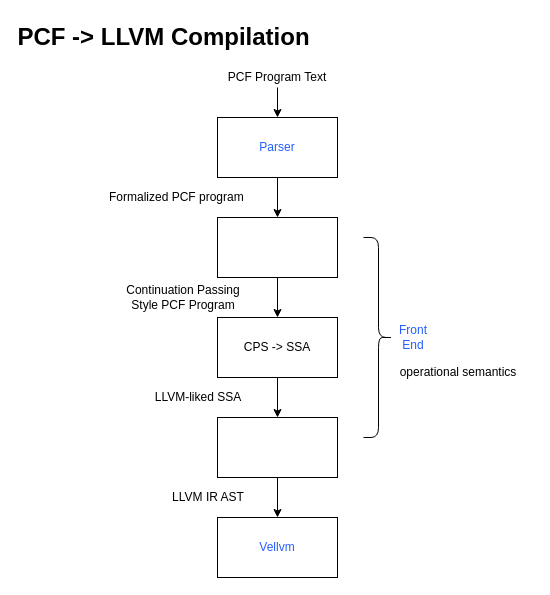
This 550x595 diagram has some shape labels left out. Here are the shapes that lost their labels. From the top down, the centre of each, then its label:
the point at 277,247: PCF -> CPS
the point at 277,447: SSA -> LLVM IR
